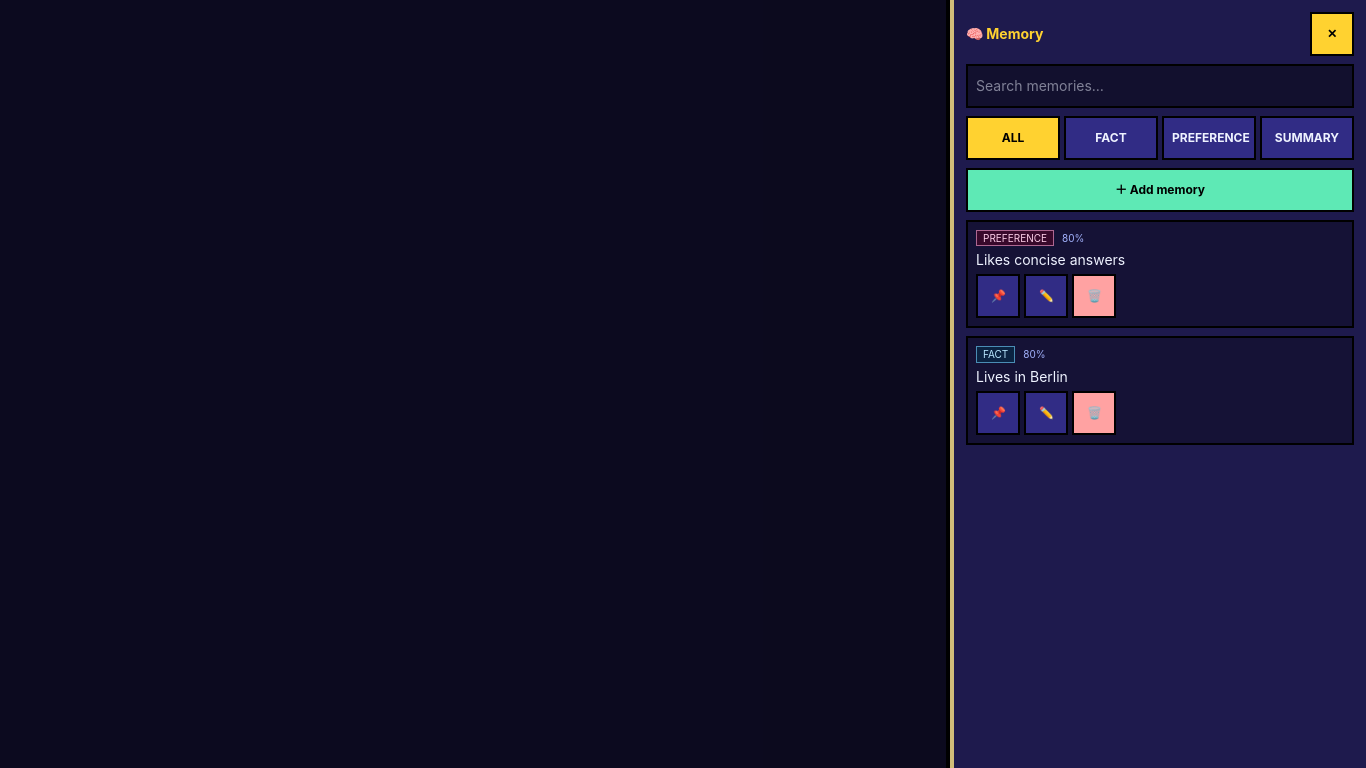
MemoryPanel › pin persists via PATCH
Click the button named "Pin memory".
click(998, 296)  # box [976, 274, 1020, 318]
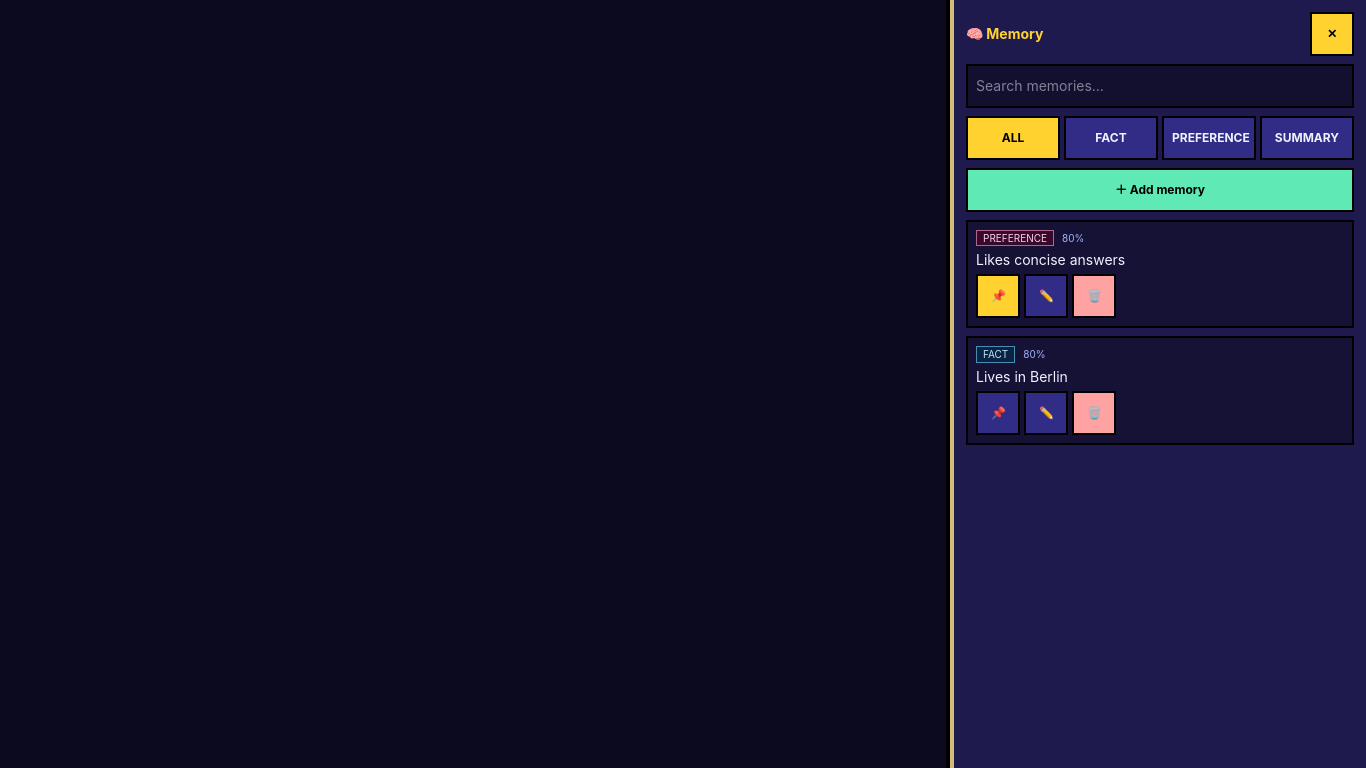
Check: the button named "Unpin memory" is shown, box [976, 274, 1020, 318]
